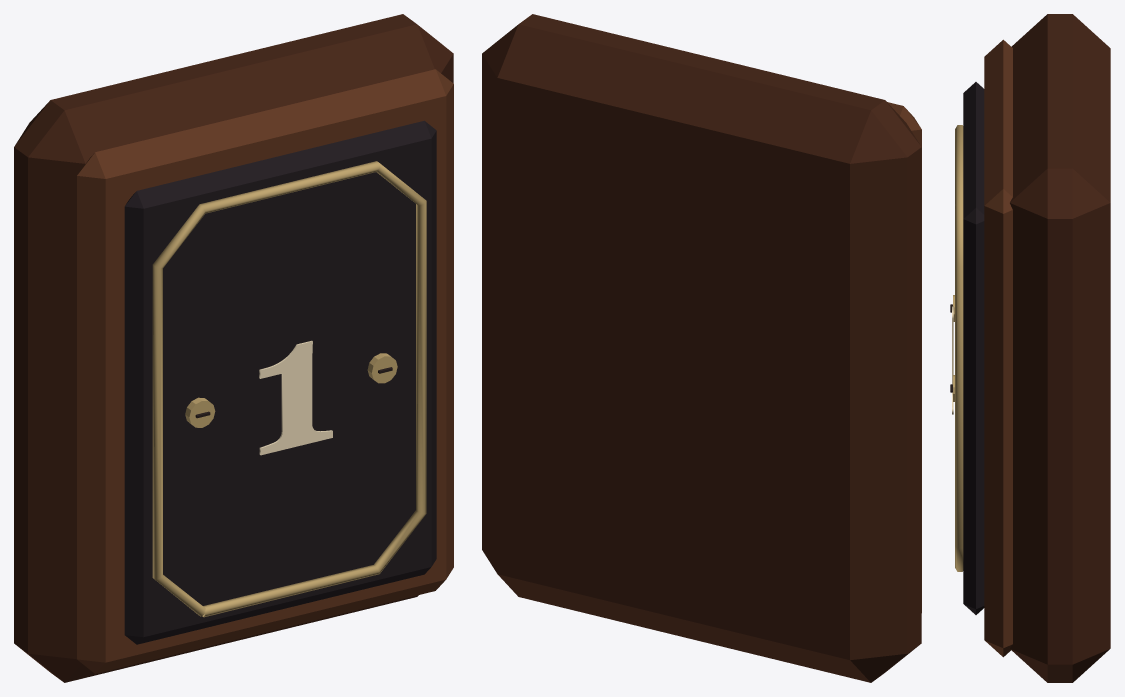
Rendered from BedroomNumber01.glb.
The picture shows the model from 3 angles, left to right: view 1: azimuth 30°, elevation 25°; view 2: azimuth 150°, elevation 25°; view 3: azimuth 270°, elevation 25°; orthographic projection. The views are drawn at different scales.
Parts seen in each view (by area): view 1: EnamelFace.007, BevelledOak.007, OakMoulding.007, GoldCartouche.007, Lettering_1, FlushBrassFixing.015, FlushBrassFixing.014; view 2: BevelledOak.007, OakMoulding.007; view 3: BevelledOak.007, OakMoulding.007, EnamelFace.007, GoldCartouche.007.
Boxes of the visible parts, x1,y1,x2,y2 form: EnamelFace.007: (124, 120, 436, 644); BevelledOak.007: (14, 14, 453, 682); OakMoulding.007: (77, 69, 453, 673); GoldCartouche.007: (152, 161, 426, 617); Lettering_1: (259, 340, 332, 455); FlushBrassFixing.015: (367, 353, 397, 383); FlushBrassFixing.014: (185, 397, 215, 427); BevelledOak.007: (482, 14, 921, 682); OakMoulding.007: (887, 102, 921, 612); BevelledOak.007: (1010, 14, 1110, 682); OakMoulding.007: (984, 39, 1012, 657); EnamelFace.007: (963, 82, 984, 614); GoldCartouche.007: (955, 125, 963, 571).
Bounding box in the file's own units: 1.05 × 1.35 × 0.381.
